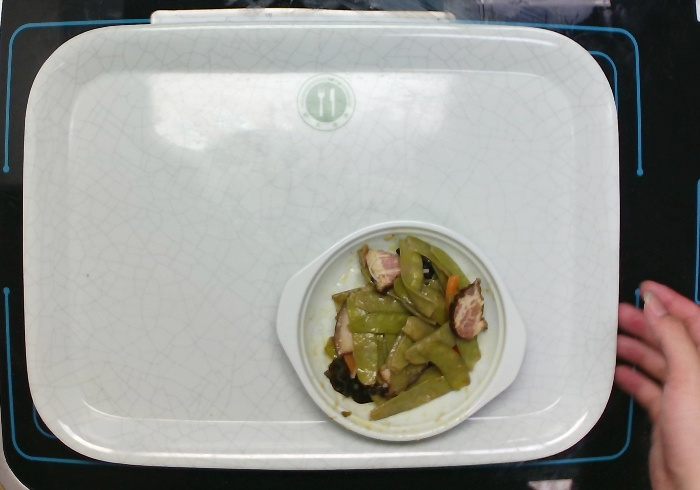JYsf-Shuang_Er_Pan: (272, 219, 527, 445)
